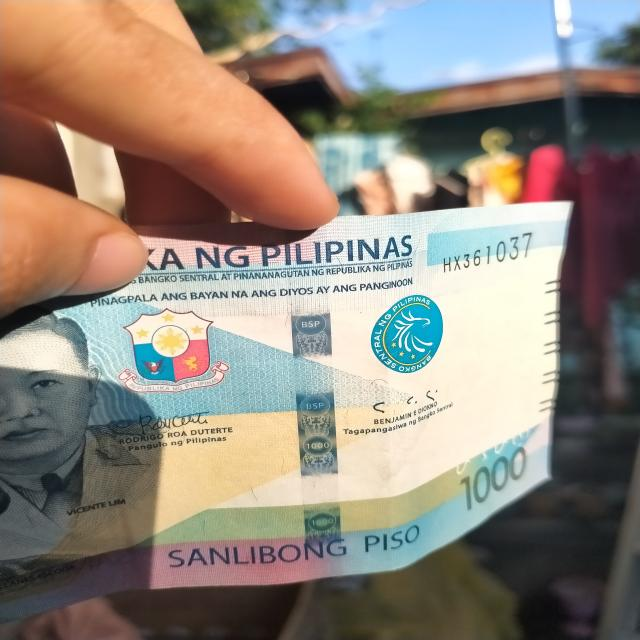security_thread: (292, 227, 340, 577)
see_through_mark: (445, 416, 541, 483)
serial_number: (435, 223, 540, 273)
watermark: (432, 274, 539, 432)
